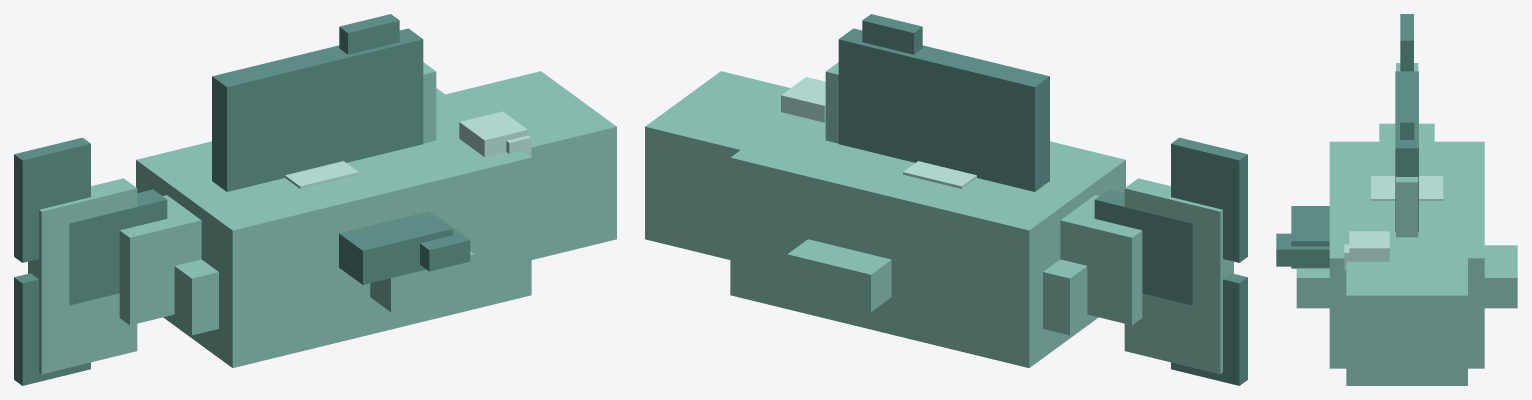
The model's file is fish_opal_blenny.glb.
The picture shows the model from 3 angles, left to right: view 1: azimuth 30°, elevation 25°; view 2: azimuth 150°, elevation 25°; view 3: azimuth 270°, elevation 25°; orthographic projection. The views are drawn at different scales.
Parts seen in each view (by area): view 1: FishArt_body, FishArt_dorsal, FishArt_tail, FishArt_pectoral, FishArt_eye, FishArt_specialty; view 2: FishArt_body, FishArt_dorsal, FishArt_tail, FishArt_eye, FishArt_specialty; view 3: FishArt_body, FishArt_pectoral, FishArt_dorsal, FishArt_eye, FishArt_specialty, FishArt_tail.
Boxes of the visible parts, box(x1,y1,x2,y2) form: FishArt_body: box(28, 62, 616, 374); FishArt_dorsal: box(212, 14, 423, 191); FishArt_tail: box(14, 137, 167, 385); FishArt_pectoral: box(339, 211, 470, 284); FishArt_eye: box(459, 111, 531, 156); FishArt_specialty: box(285, 161, 358, 188); FishArt_body: box(645, 62, 1233, 374); FishArt_dorsal: box(838, 14, 1049, 191); FishArt_tail: box(1094, 137, 1247, 385); FishArt_eye: box(781, 77, 825, 122); FishArt_specialty: box(903, 161, 976, 188); FishArt_body: box(1296, 63, 1517, 385); FishArt_pectoral: box(1276, 206, 1329, 268); FishArt_dorsal: box(1395, 71, 1418, 231); FishArt_eye: box(1344, 231, 1389, 270); FishArt_specialty: box(1371, 176, 1443, 200); FishArt_tail: box(1400, 14, 1413, 71).
Size of the model in its own units: 0.3091 by 0.1442 by 0.1439.
